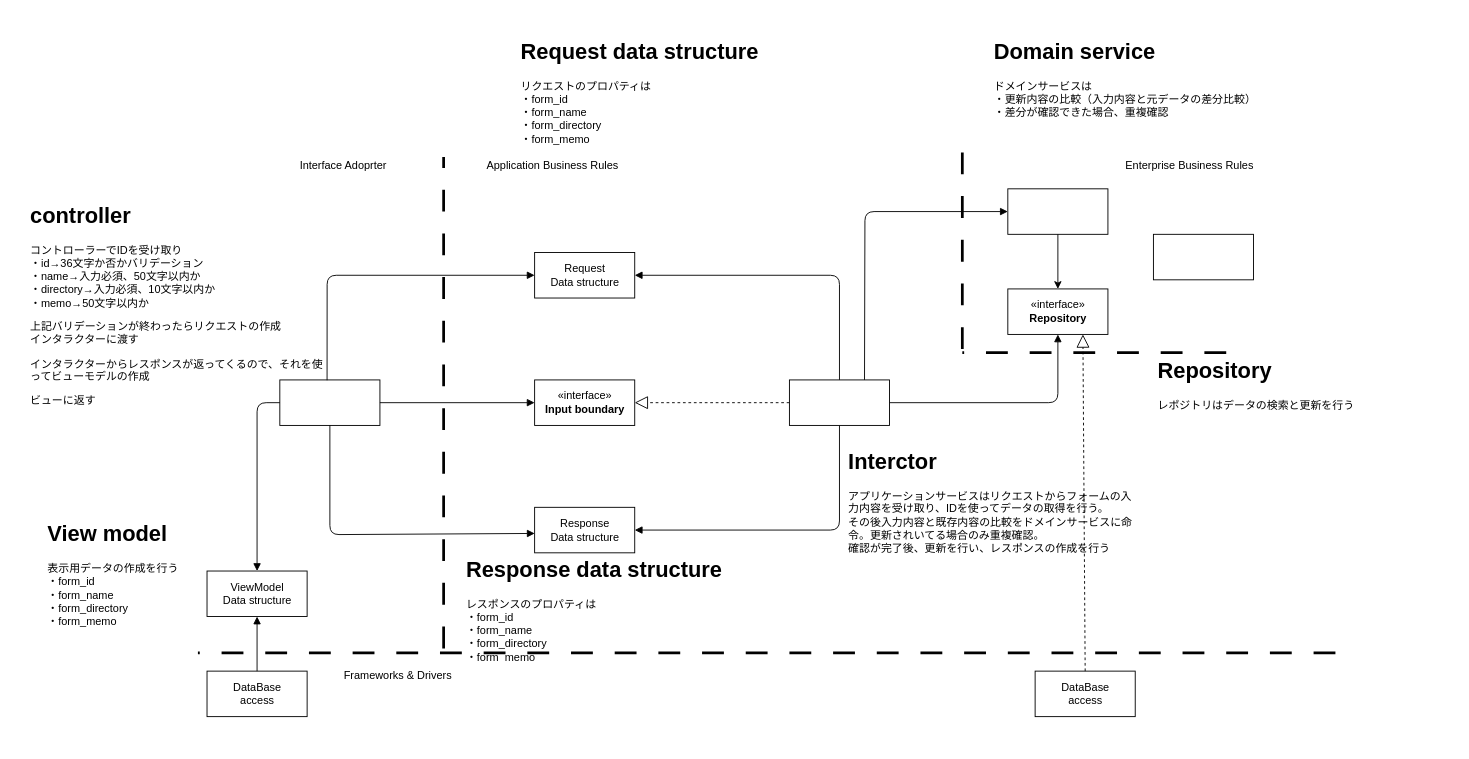
The diagram is 1469 pixels wide and 759 high, and some of its shapes have lost their labels. The shapes that lost their labels are listed below. From the top down, each one's box as (x1, y1, x2, y2) in pixels, then its label:
(1007, 188, 1108, 234): Domain Service
(1153, 233, 1254, 280): Entities
(279, 379, 380, 425): Controller
(789, 379, 890, 425): «interface» Edit UseCase
